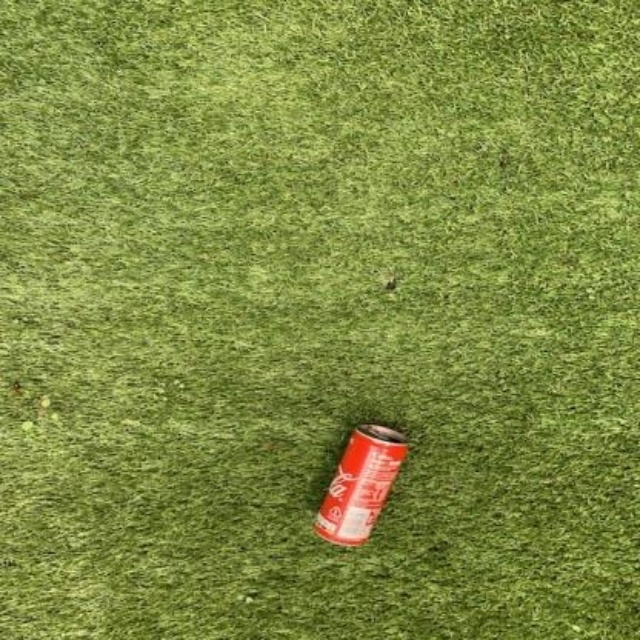trash: (314, 425, 406, 543)
